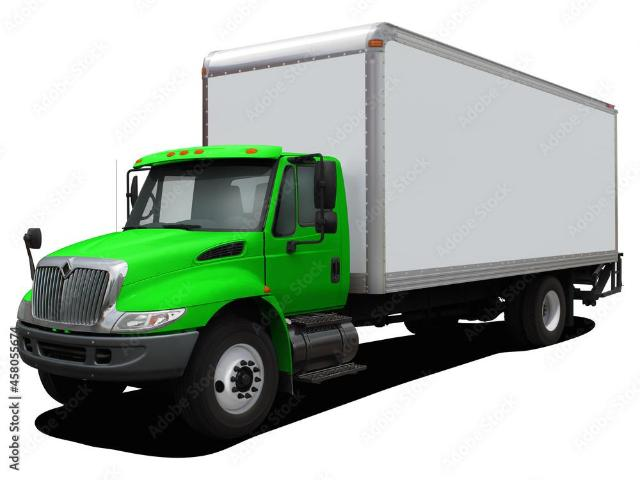truck: (14, 24, 613, 444)
